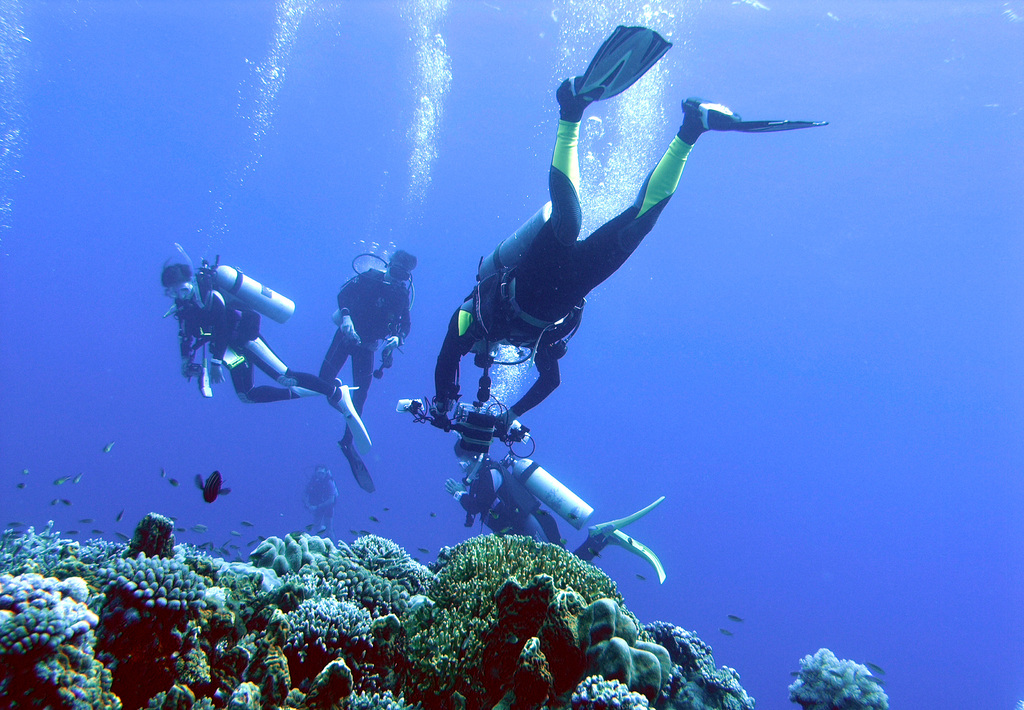Person: (427, 24, 827, 435), (163, 257, 372, 445), (445, 452, 667, 585), (318, 248, 416, 492), (303, 470, 336, 542)
